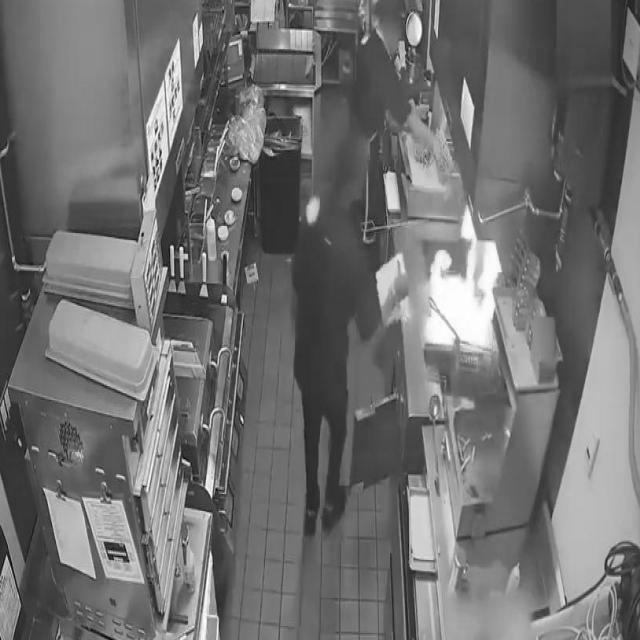smoke: (426, 220, 504, 365)
